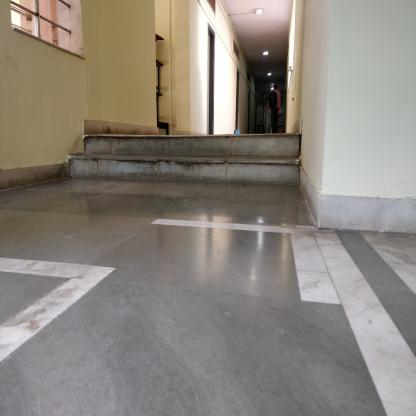stairs: (86, 131, 298, 187)
